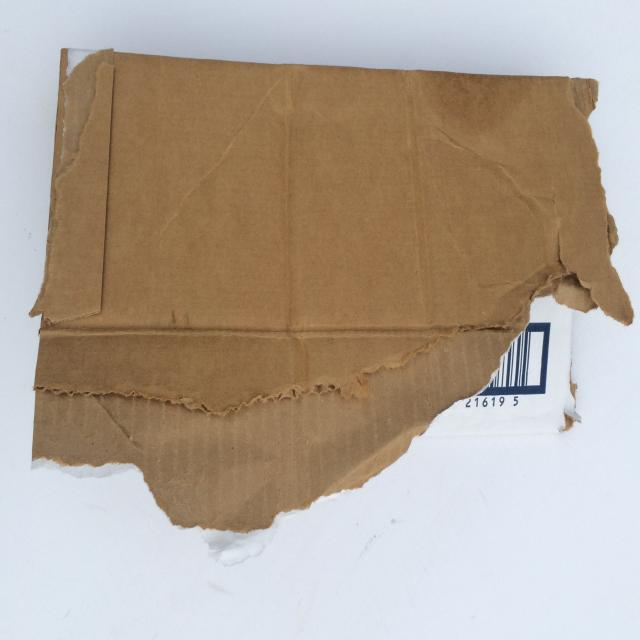cardboard: (29, 46, 633, 533)
